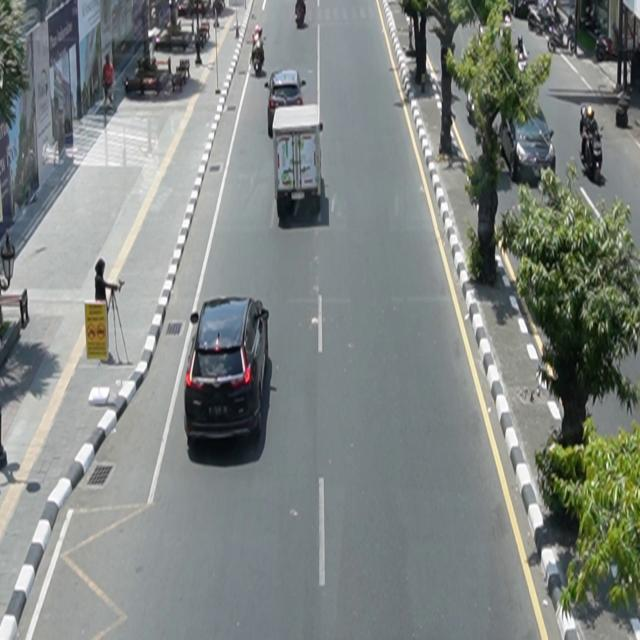car: (184, 296, 270, 444), (493, 98, 557, 187), (265, 69, 307, 139)
truck: (273, 105, 324, 219)
